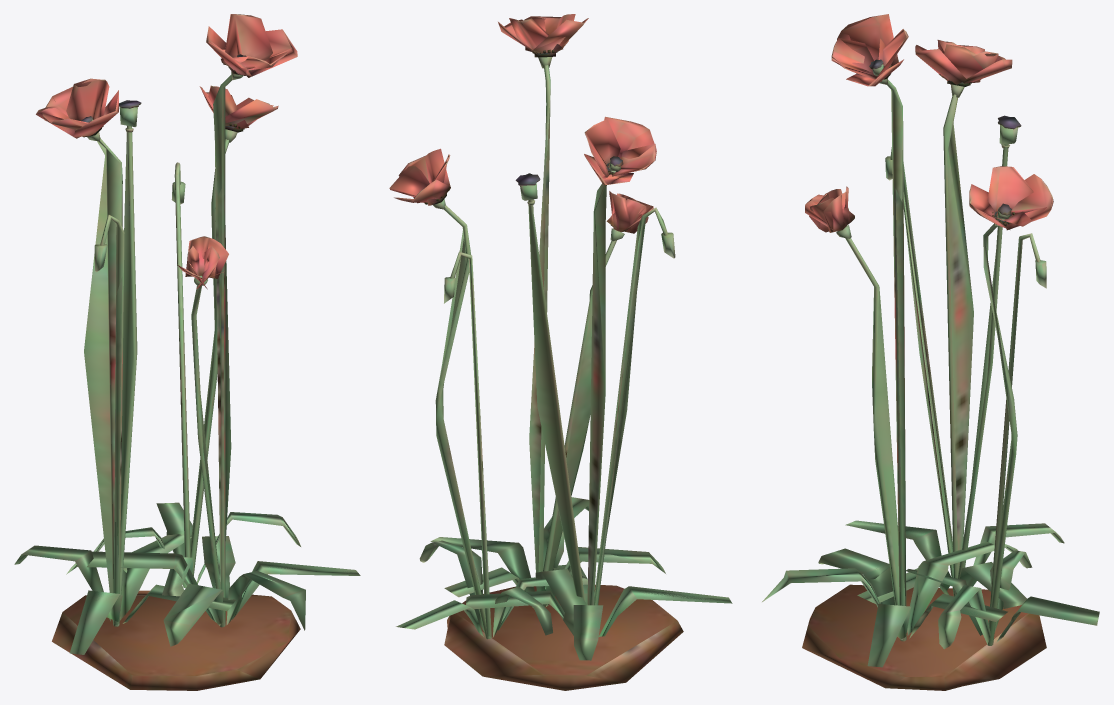
Rendered from poppy.glb.
3 renders of one model, left to right at view 1: azimuth 30°, elevation 25°; view 2: azimuth 150°, elevation 25°; view 3: azimuth 270°, elevation 25°, orthographic. The views are drawn at different scales.
Visible parts, largest first — view 1: poppy_body; view 2: poppy_body; view 3: poppy_body.
Part boxes in pixels (left/top/right/bottom): poppy_body: left=14, top=14, right=360, bottom=690; poppy_body: left=389, top=14, right=732, bottom=690; poppy_body: left=762, top=14, right=1099, bottom=690.
Size of the model in its own units: 0.3219 by 0.6407 by 0.3124.
Materials: 1 (1 with a texture image).
